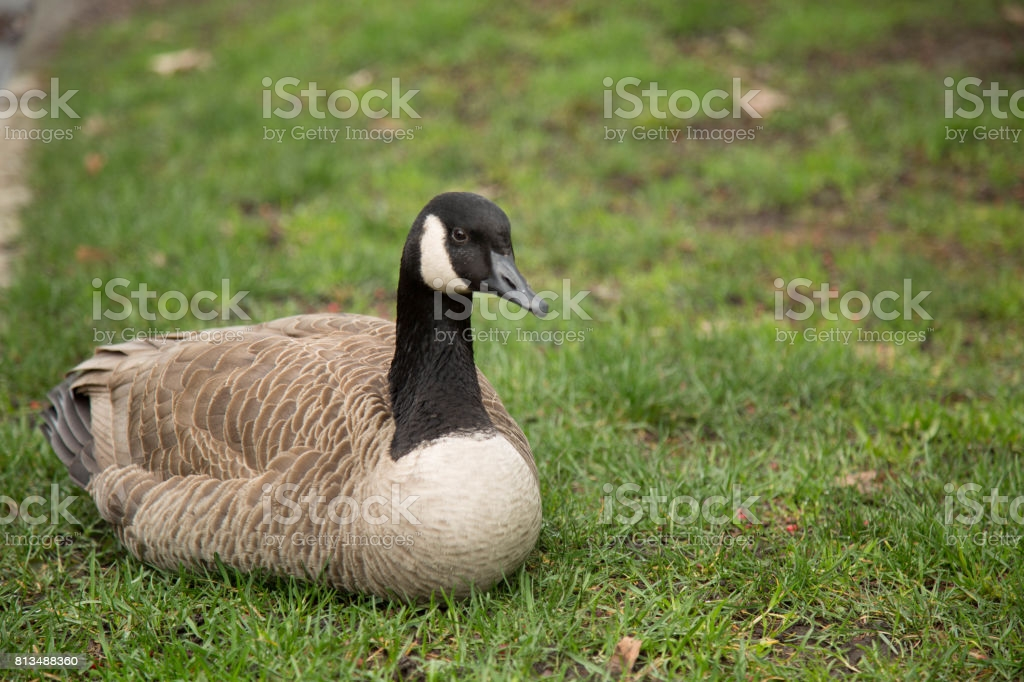goose: (38, 190, 547, 604)
